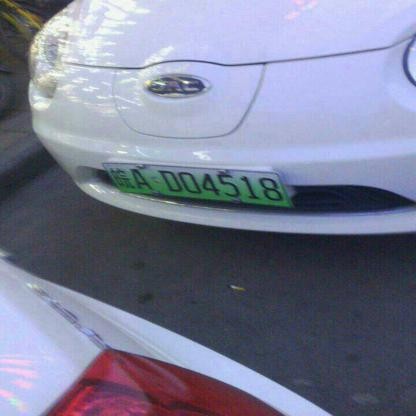lp: (99, 162, 294, 206)
